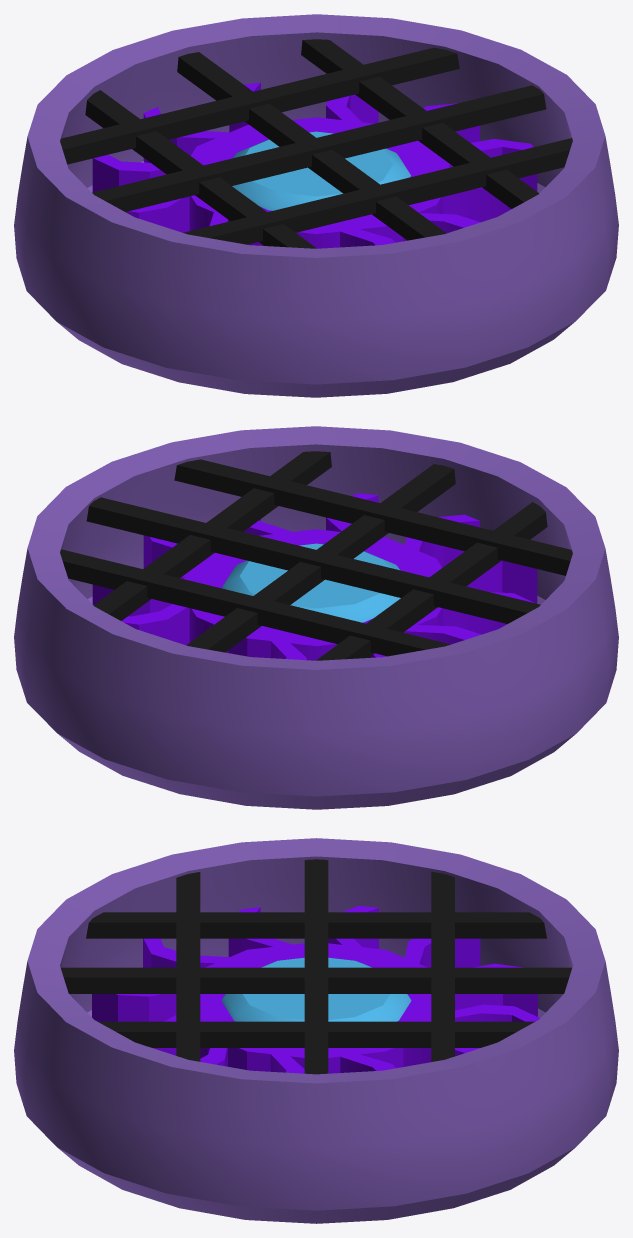
Rendered from Gound_Blower_01.fbx.
The picture shows the model from 3 angles, top to bottom: view 1: azimuth 30°, elevation 25°; view 2: azimuth 150°, elevation 25°; view 3: azimuth 270°, elevation 25°; orthographic projection.
Visible parts, largest first — view 1: Obstacle_Gound_Blower_01, Obstacle_Gound_Blower_01_Fan; view 2: Obstacle_Gound_Blower_01, Obstacle_Gound_Blower_01_Fan; view 3: Obstacle_Gound_Blower_01, Obstacle_Gound_Blower_01_Fan.
Boxes of the visible parts, x1,y1,x2,y2 form: Obstacle_Gound_Blower_01: (14,14,618,397); Obstacle_Gound_Blower_01_Fan: (92,82,539,248); Obstacle_Gound_Blower_01: (14,426,618,809); Obstacle_Gound_Blower_01_Fan: (92,493,537,660); Obstacle_Gound_Blower_01: (14,838,618,1223); Obstacle_Gound_Blower_01_Fan: (92,905,539,1073).
Bounding box in the file's own units: 324 × 88.48 × 322.
1 material, 1 textured.
